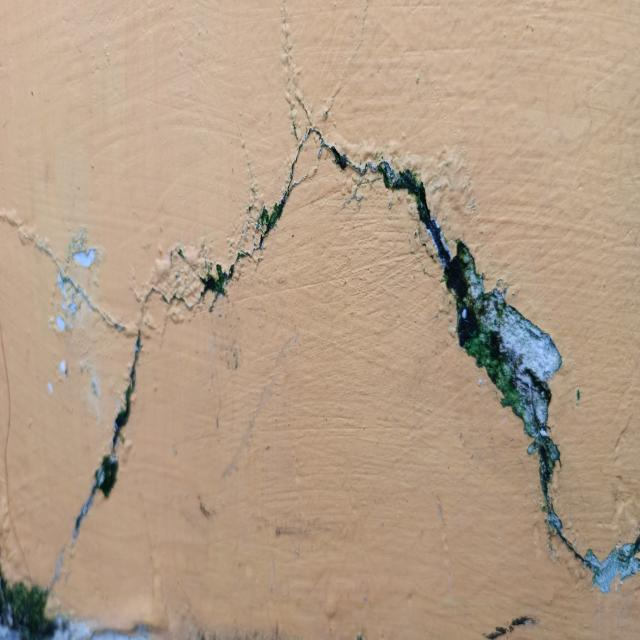branched cracks: (0, 123, 639, 592)
